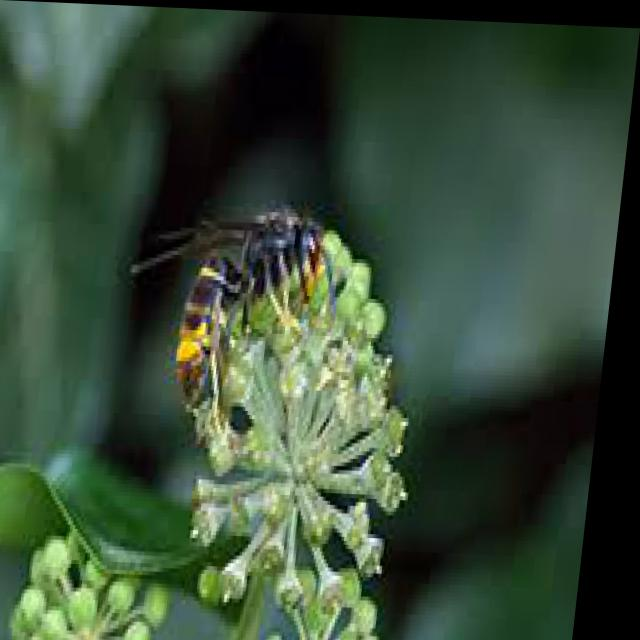Vespa Velutina: (114, 195, 356, 425)
